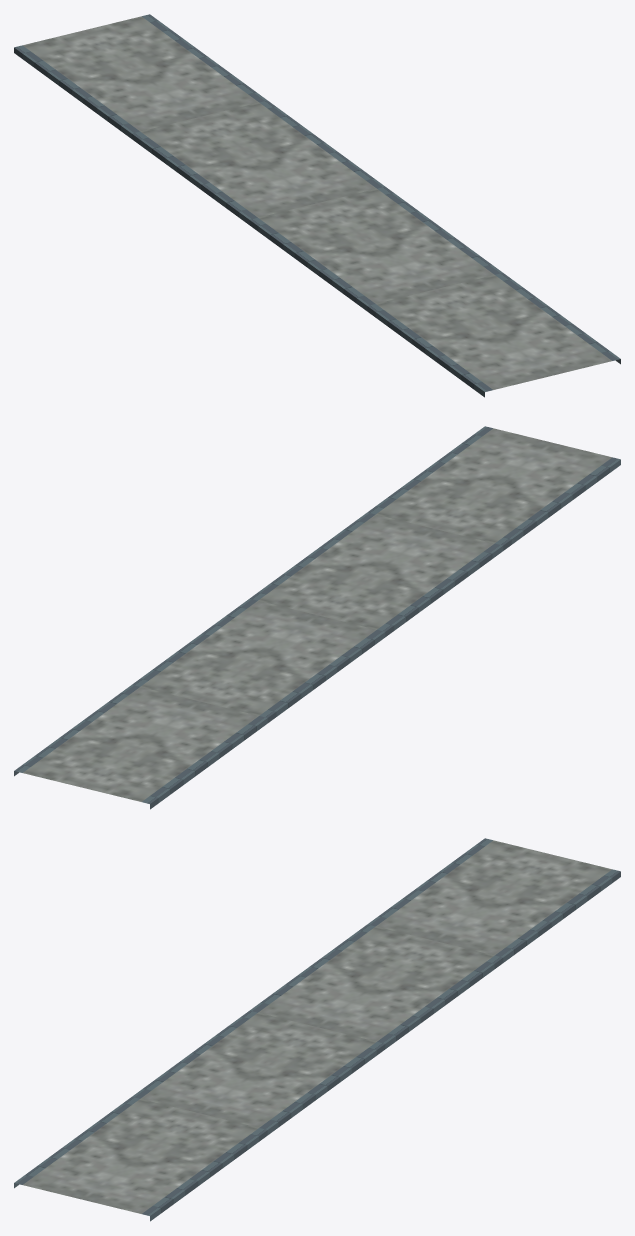
Rendered from RoadTestjalan.fbx.
The picture shows the model from 3 angles, top to bottom: view 1: azimuth 30°, elevation 25°; view 2: azimuth 150°, elevation 25°; view 3: azimuth 330°, elevation 25°; orthographic projection.
Visible parts, largest first — view 1: Plane.004; view 2: Plane.004; view 3: Plane.004.
Boxes of the visible parts, <box> form: Plane.004: <box>14,14,620,397</box>; Plane.004: <box>14,426,620,809</box>; Plane.004: <box>14,838,620,1221</box>.
Size of the model in its own units: 800 by 31.28 by 4800.
